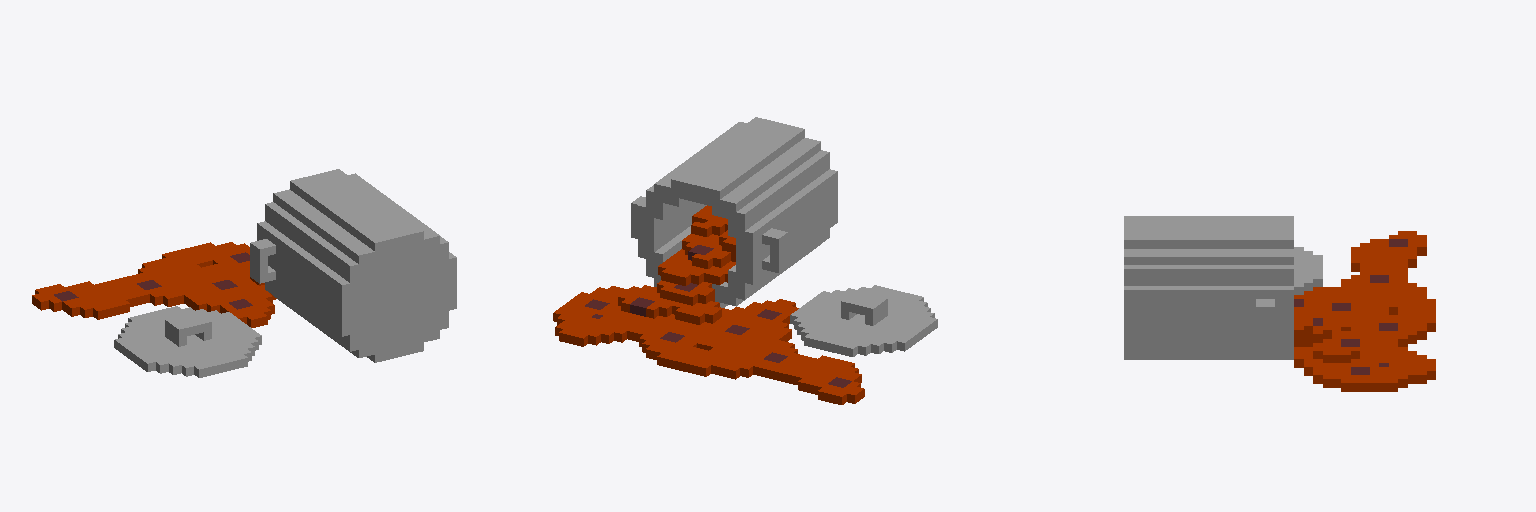
3 views of the same model, side by side, from view 1: azimuth 30°, elevation 25°; view 2: azimuth 150°, elevation 25°; view 3: azimuth 270°, elevation 25° (orthographic).
Visible parts, largest first — view 1: object 1; view 2: object 1; view 3: object 1.
Part boxes in pixels (x1,y1,x2,y2): object 1: (32,169,456,377); object 1: (553,117,937,404); object 1: (1124,216,1435,391).
Bounding box in the file's own units: 3.8 × 1.4 × 3.3.
Materials: 1 (1 with a texture image).